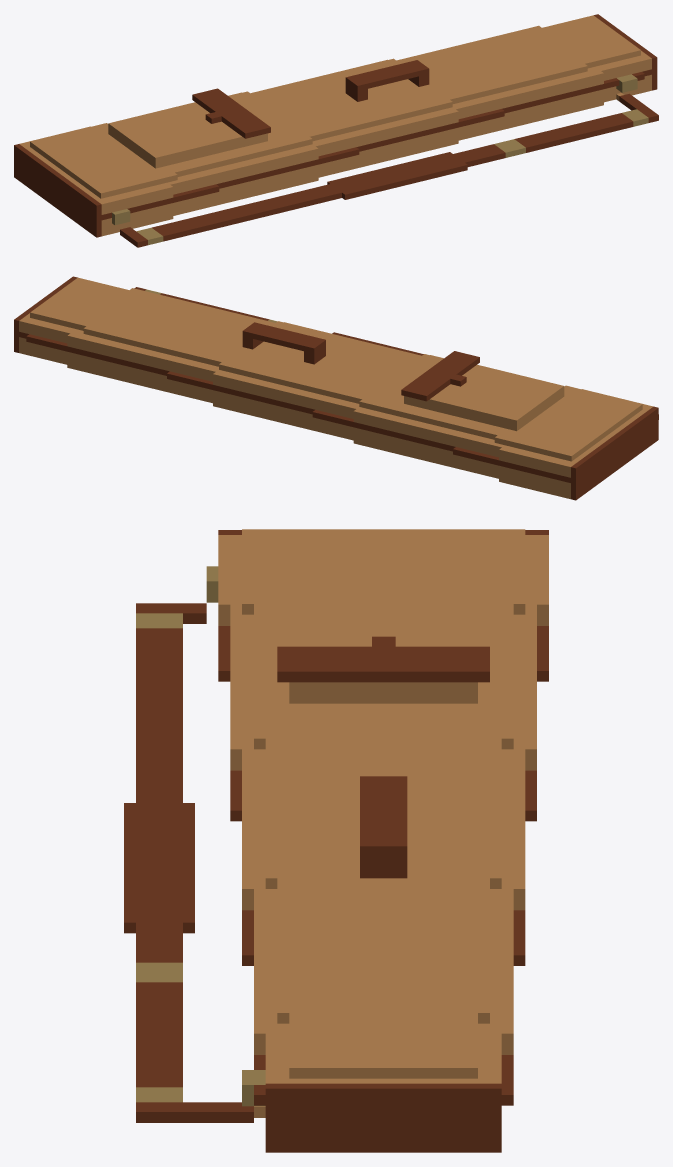
Rendered from rifle_case_soft_leather.glb.
3 views of the same model, one above another, from view 1: azimuth 30°, elevation 25°; view 2: azimuth 150°, elevation 25°; view 3: azimuth 270°, elevation 25° (orthographic). The views are drawn at different scales.
Parts seen in each view (by area): view 1: rifle_case_soft_leather:compound; view 2: rifle_case_soft_leather:compound; view 3: rifle_case_soft_leather:compound.
Part boxes in pixels (bbox=[...]): rifle_case_soft_leather:compound: bbox=[14, 14, 658, 247]; rifle_case_soft_leather:compound: bbox=[14, 276, 658, 500]; rifle_case_soft_leather:compound: bbox=[124, 529, 548, 1152].
Bounding box in the file's own units: 1.12 × 0.1 × 0.36.
